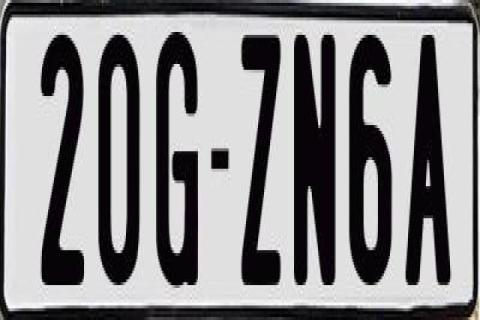0: (40, 26, 90, 282), (96, 35, 142, 297), (350, 29, 393, 288)
A: (402, 29, 452, 285)
G: (156, 29, 200, 297)
N: (290, 26, 334, 291)
Z: (241, 32, 288, 285)
